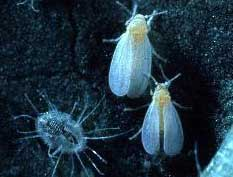whitefly: (103, 1, 168, 100), (124, 72, 191, 157)
